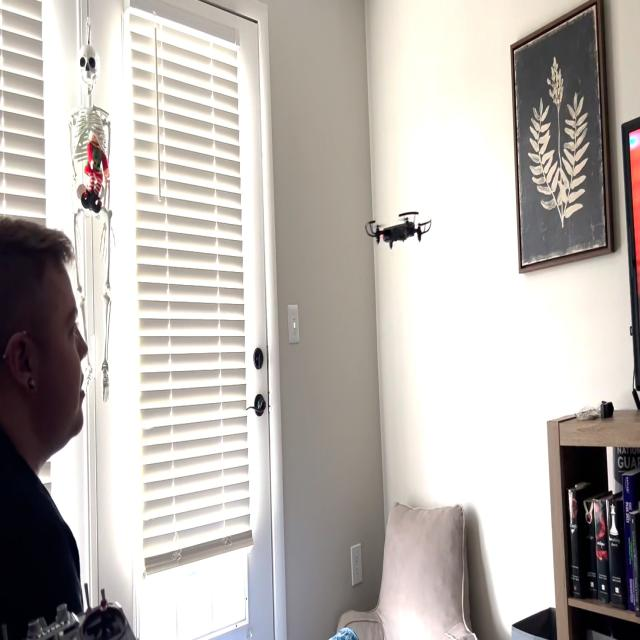drone: (359, 194, 439, 254)
